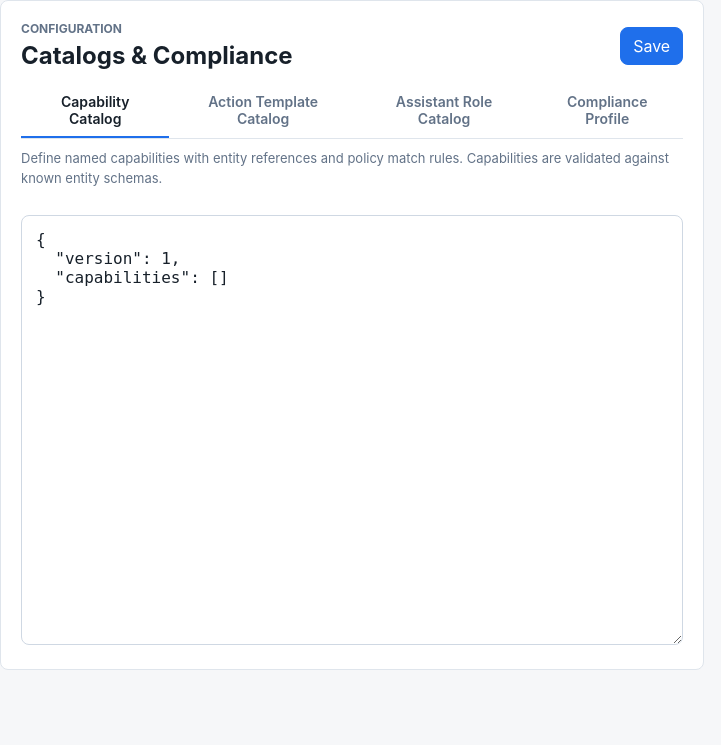
CatalogsWorkspace › rejects JSON arrays as invalid top-level
Replace the text in the text box named "Capability Catalog JSON" with "[1,2,3]" at (352, 430), box [21,215,683,645]
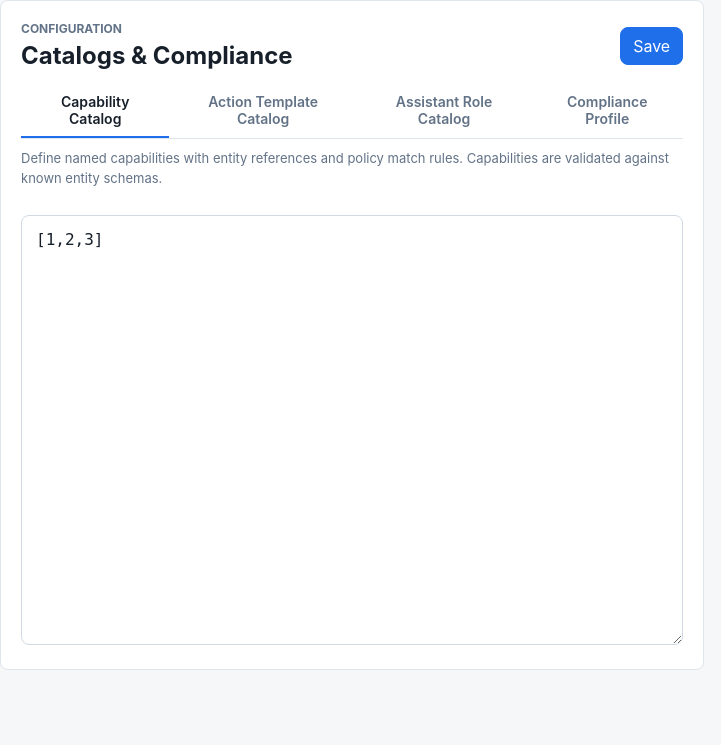
Click the button "Save" at (652, 46), box [620,26,683,64]
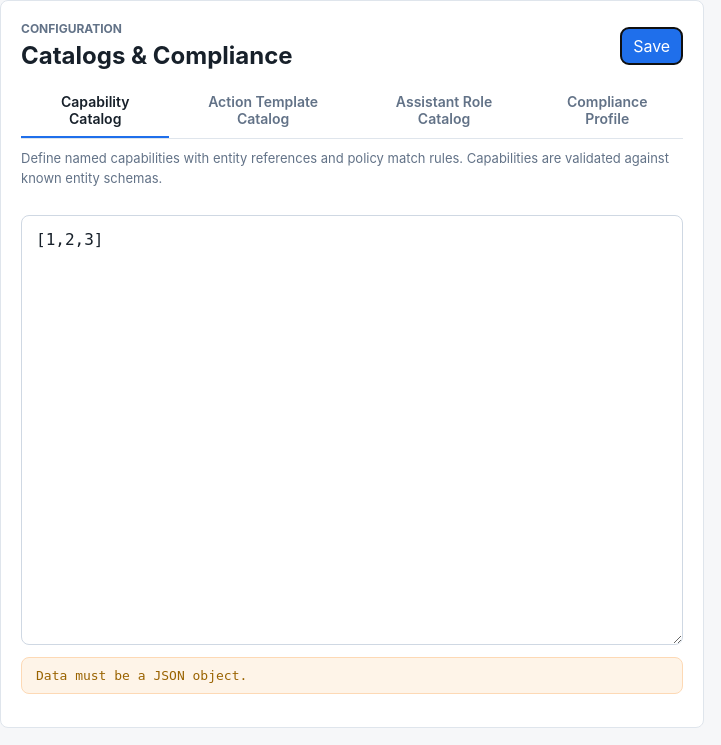
Result: the text "Data must be a JSON object." is shown at [21,657,683,694]
